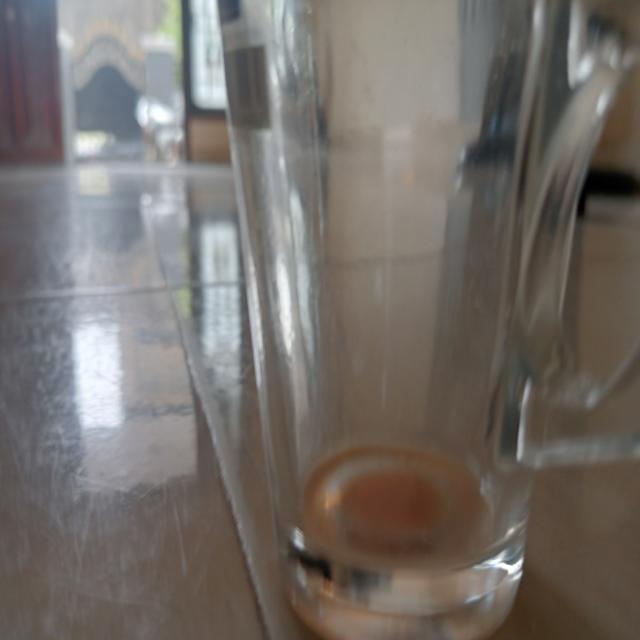glass-VX4N: (211, 2, 640, 640)
